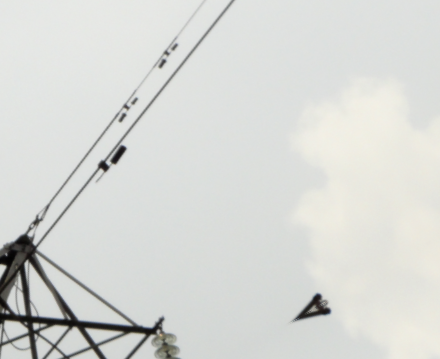damper: (156, 40, 178, 70), (117, 96, 139, 123)
damper_defect: (93, 143, 128, 183)
